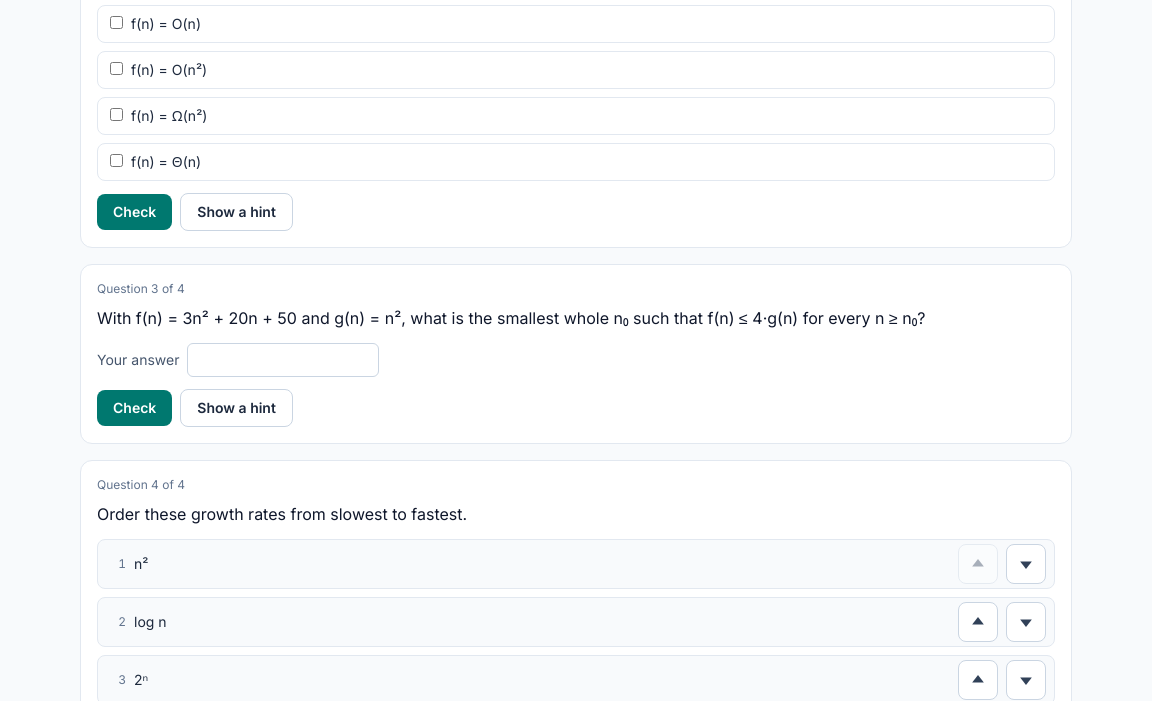
Test: asymptotic notation lesson › checks a practice answer that needs the widget
(page scrolled)
Type "22" into the field named "answer" at (284,360), box [188,343,380,377]
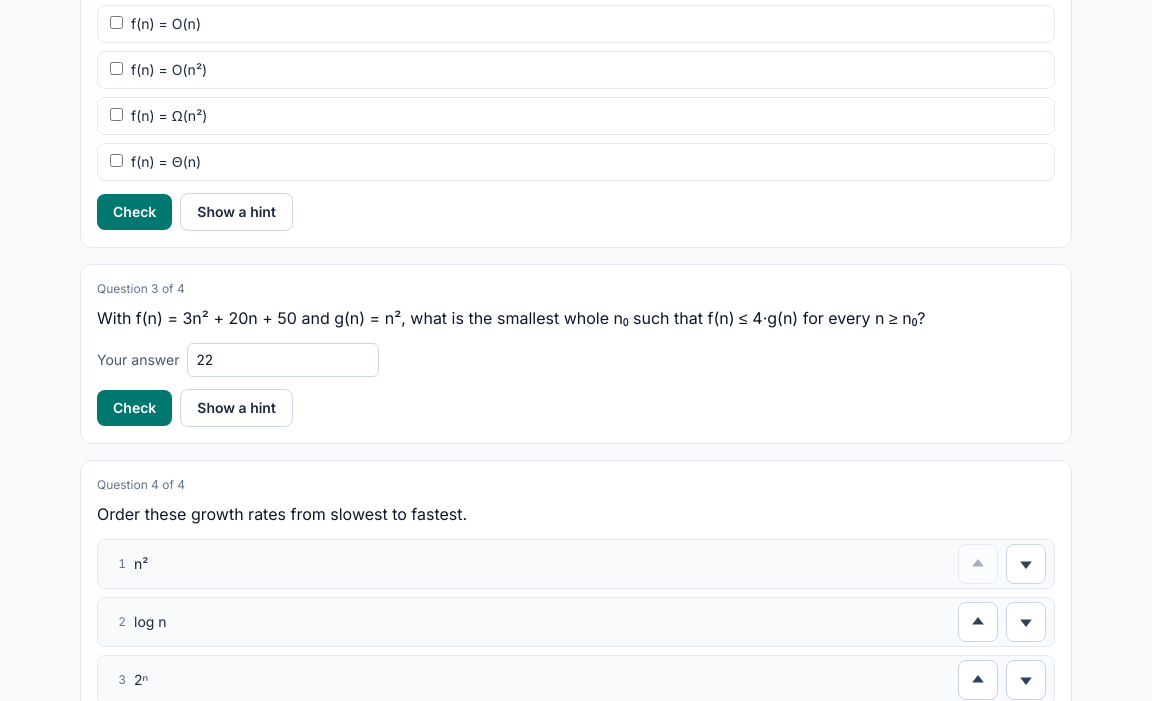
Submit the form "Your answer Check Show a hint", box [97,343,380,427]
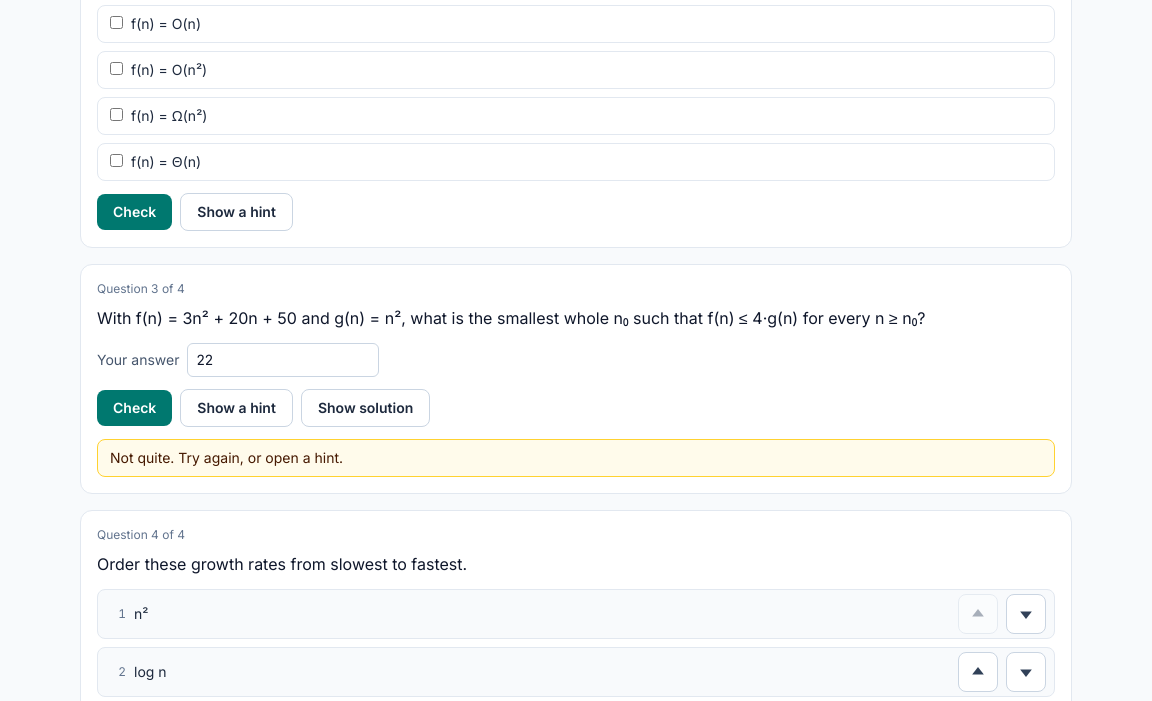
Expected: the list item that starts with "Question 3 of 4" shows "Not quite", [110,449,343,466]
Click the button "Show a hint" below "Question 3 of 4" at (237,408), box [180,389,293,427]
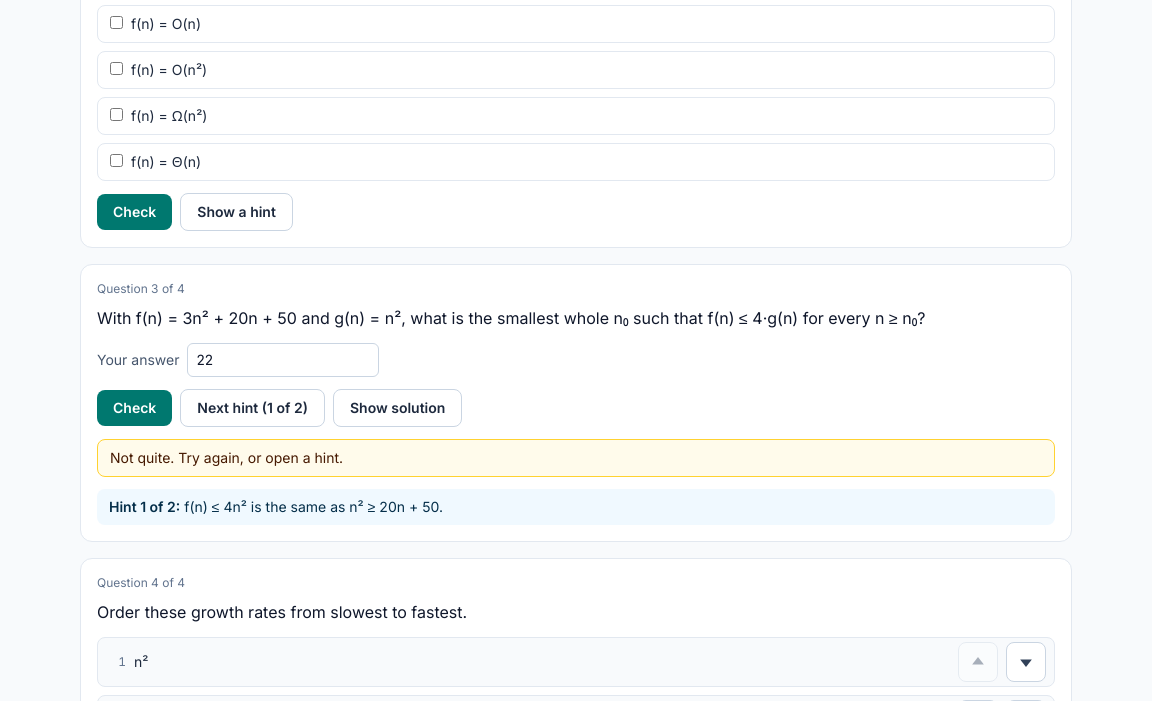
Expected: the list item that starts with "Question 3 of 4" shows "f(n) ≤ 4n² is the same as n² ≥ 20n + 50.", [180,498,443,515]
Replace the text in the field named "answer" with "23" at (284,360), box [188,343,380,377]
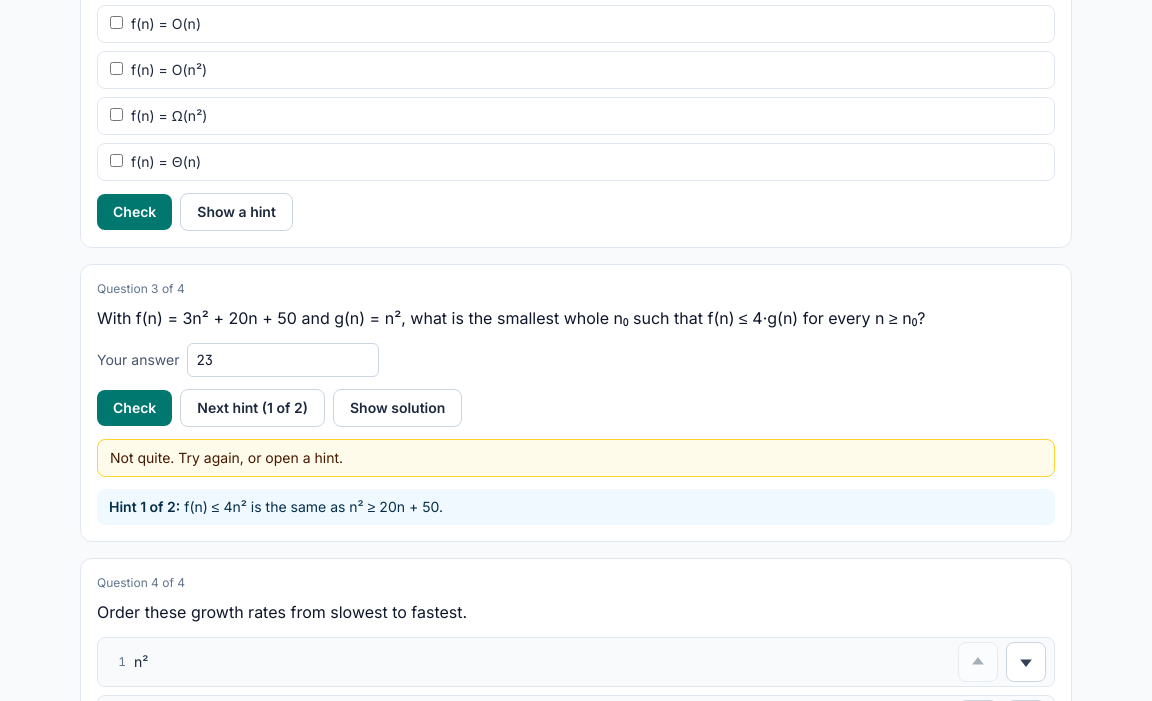
Submit the form "Your answer Check Next hint (1 of 2) Show solution", box [97,343,462,427]
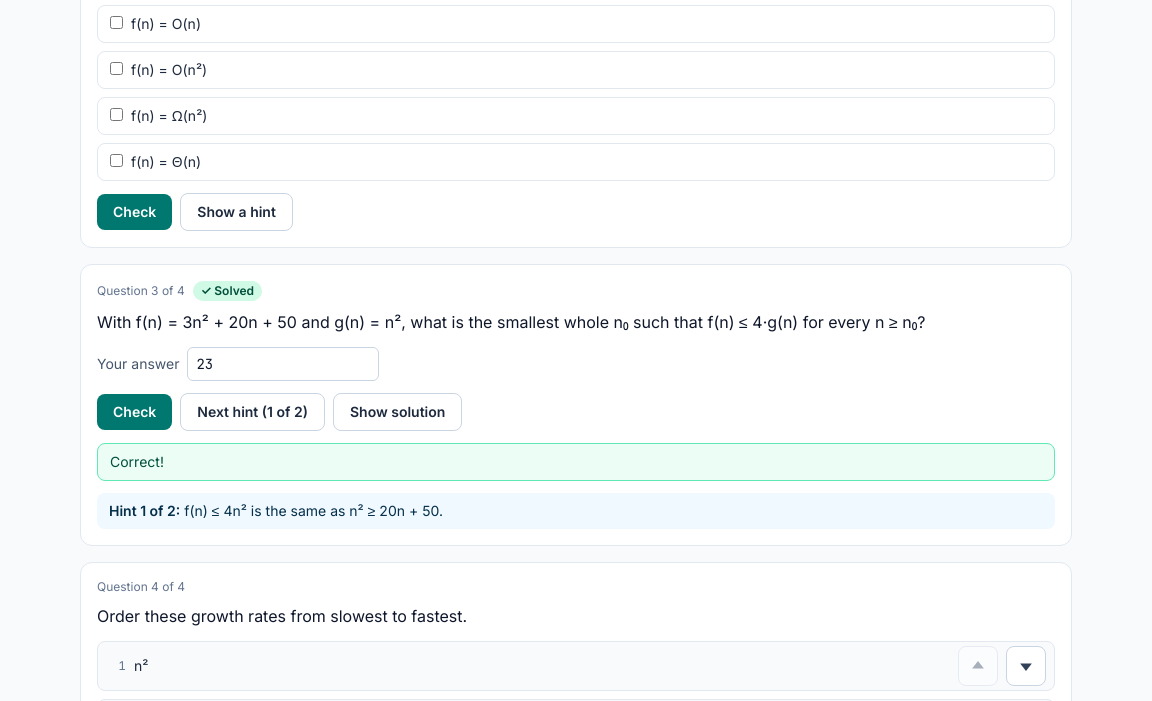
Expected: the list item that starts with "Question 3 of 4" shows "Correct!", [110,453,164,470]
